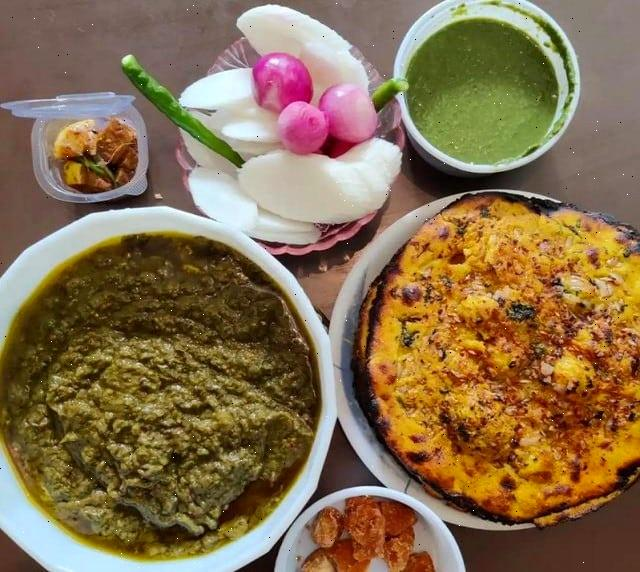saag: (7, 236, 305, 559)
